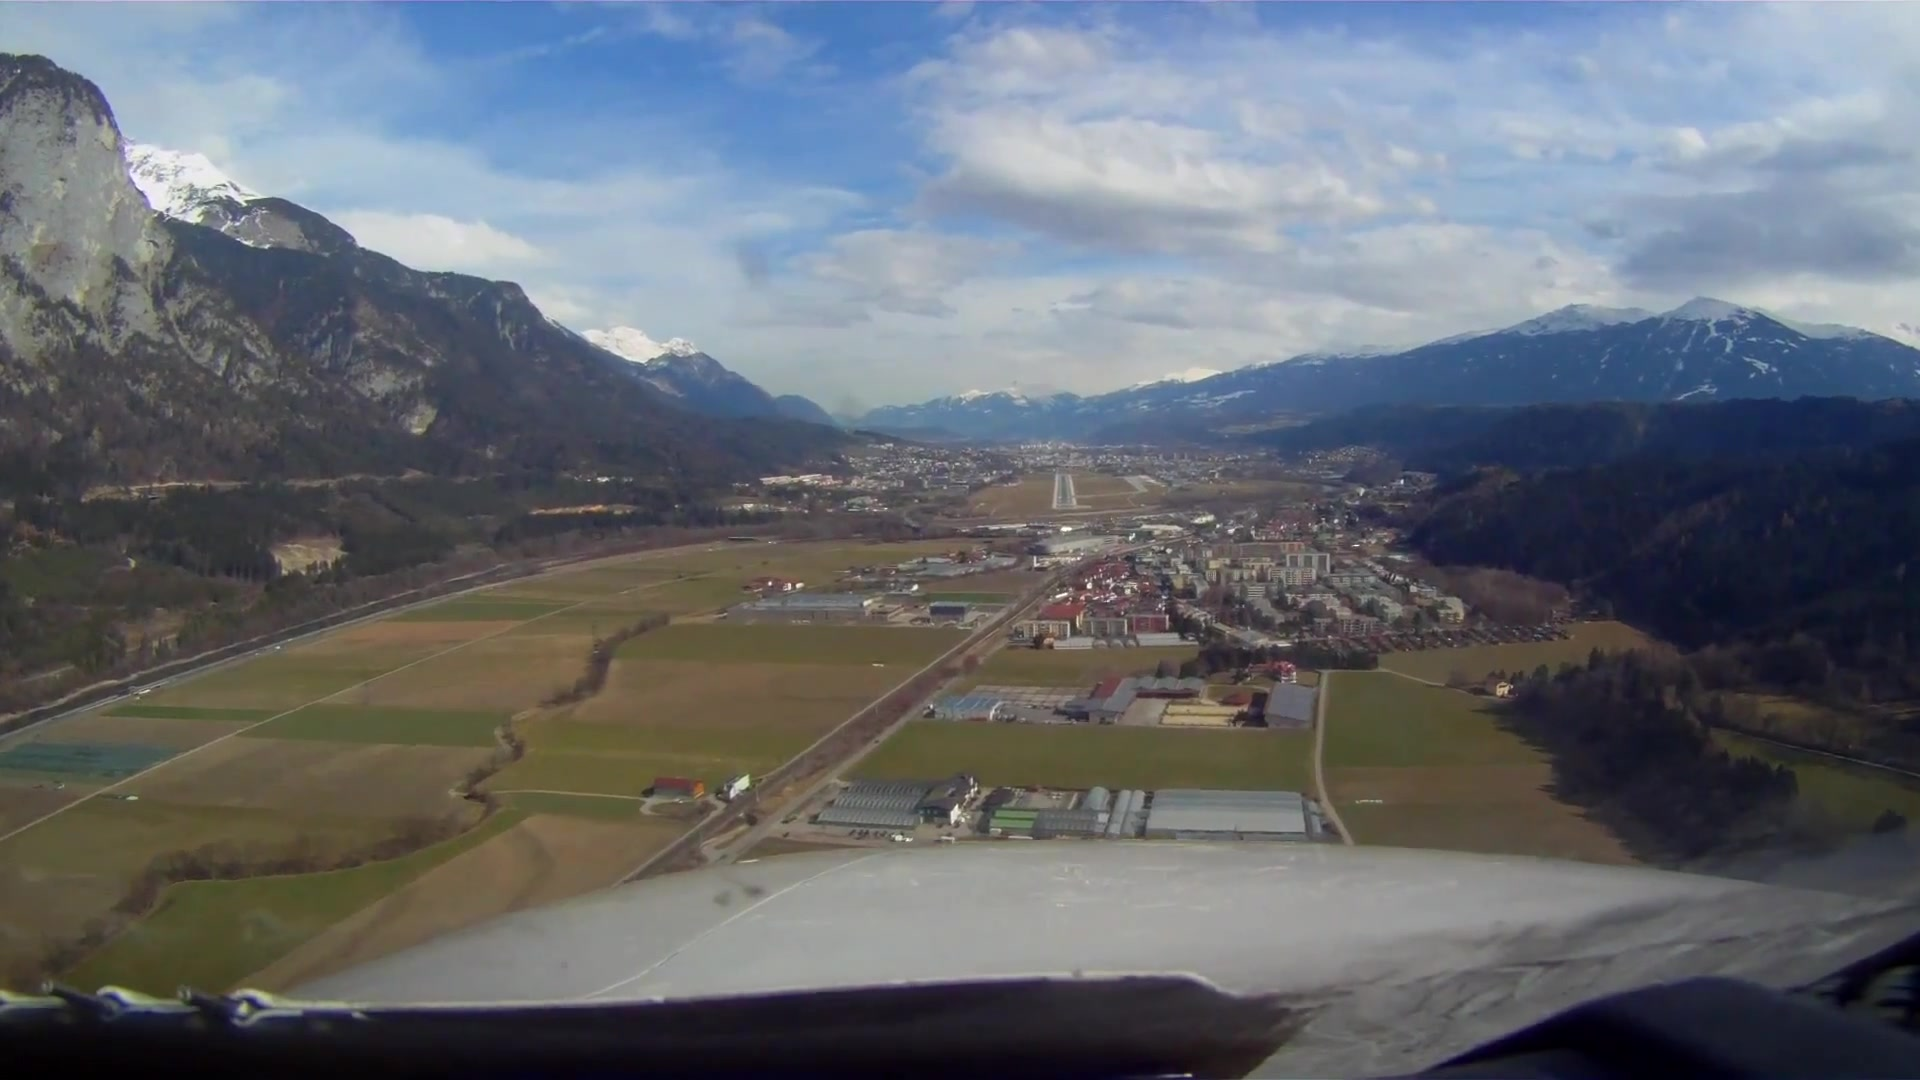runway: (1051, 473, 1076, 509)
